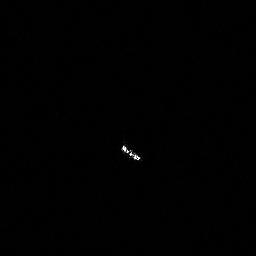ship: (120, 144, 141, 162)
